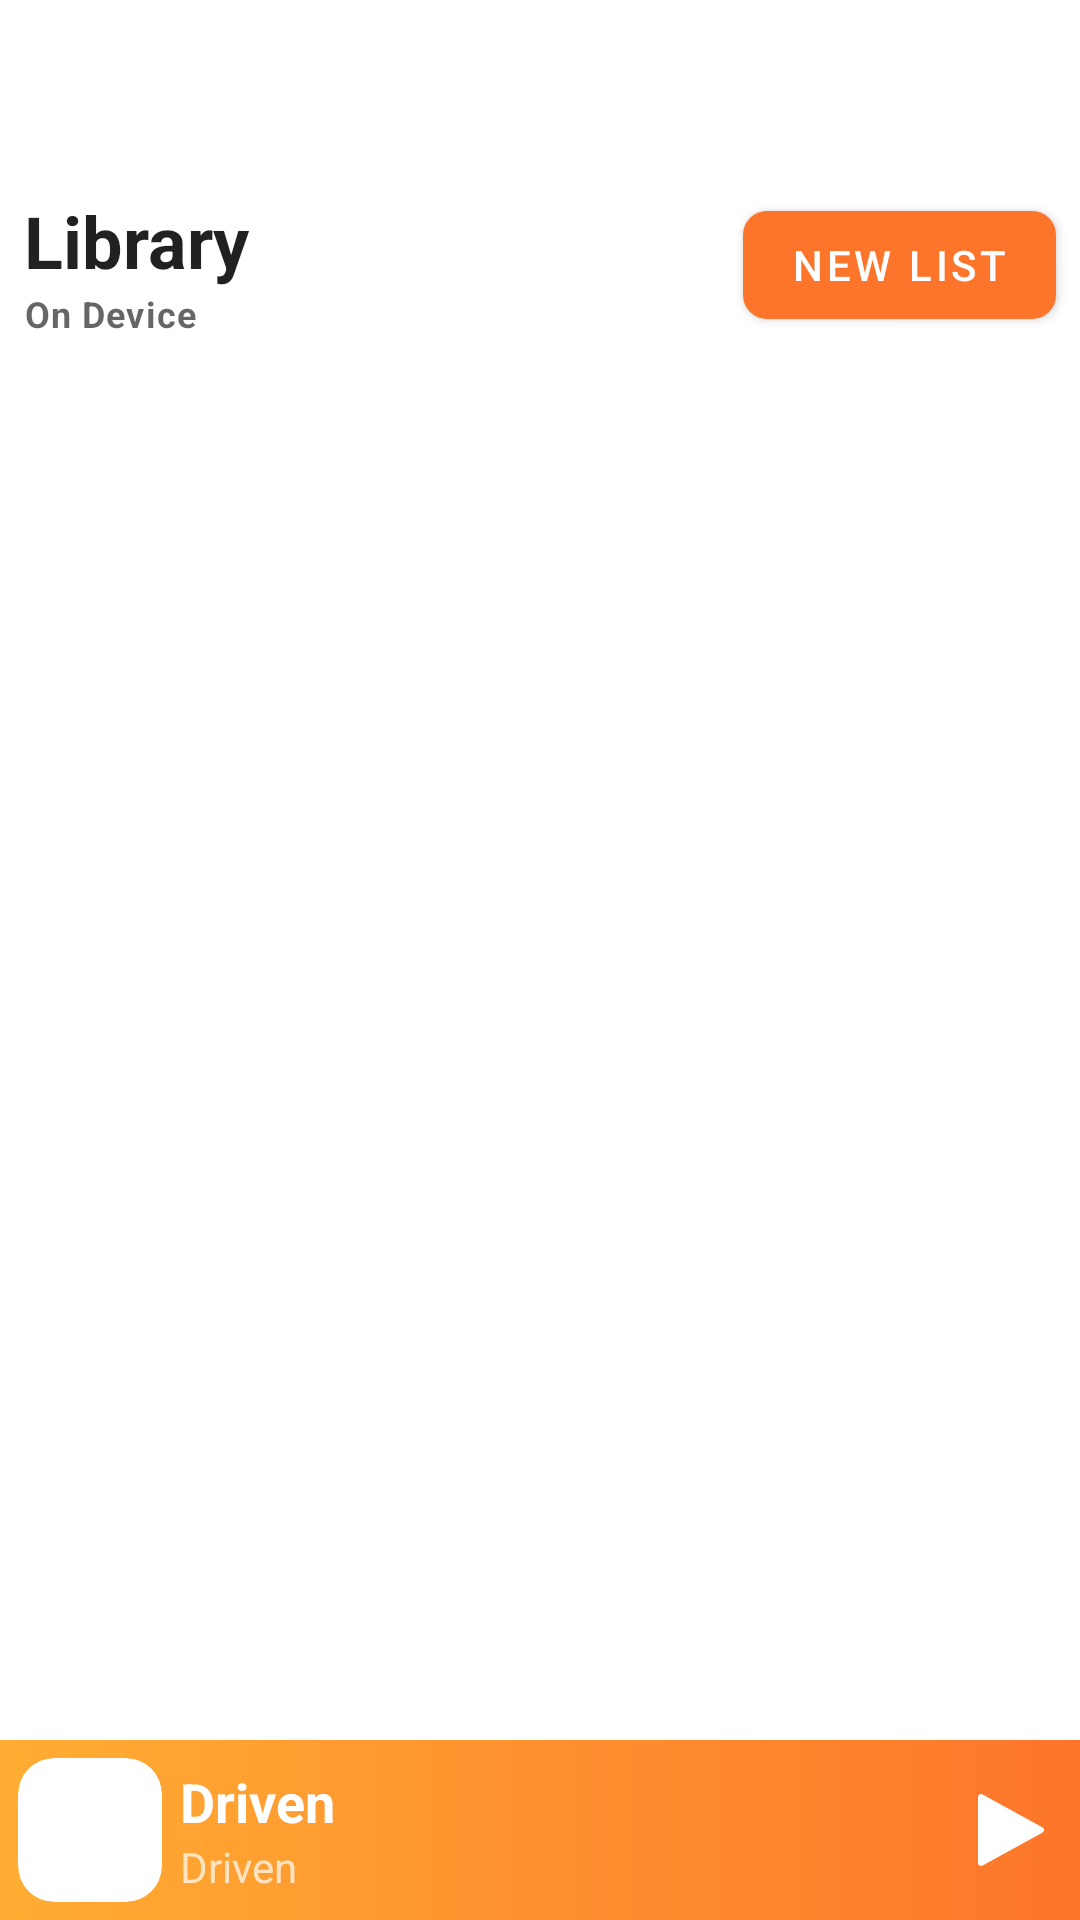

Icons on this 1080*1920 Android screen, each with the point to tap as [x,y]:
play: [1011,1830]
